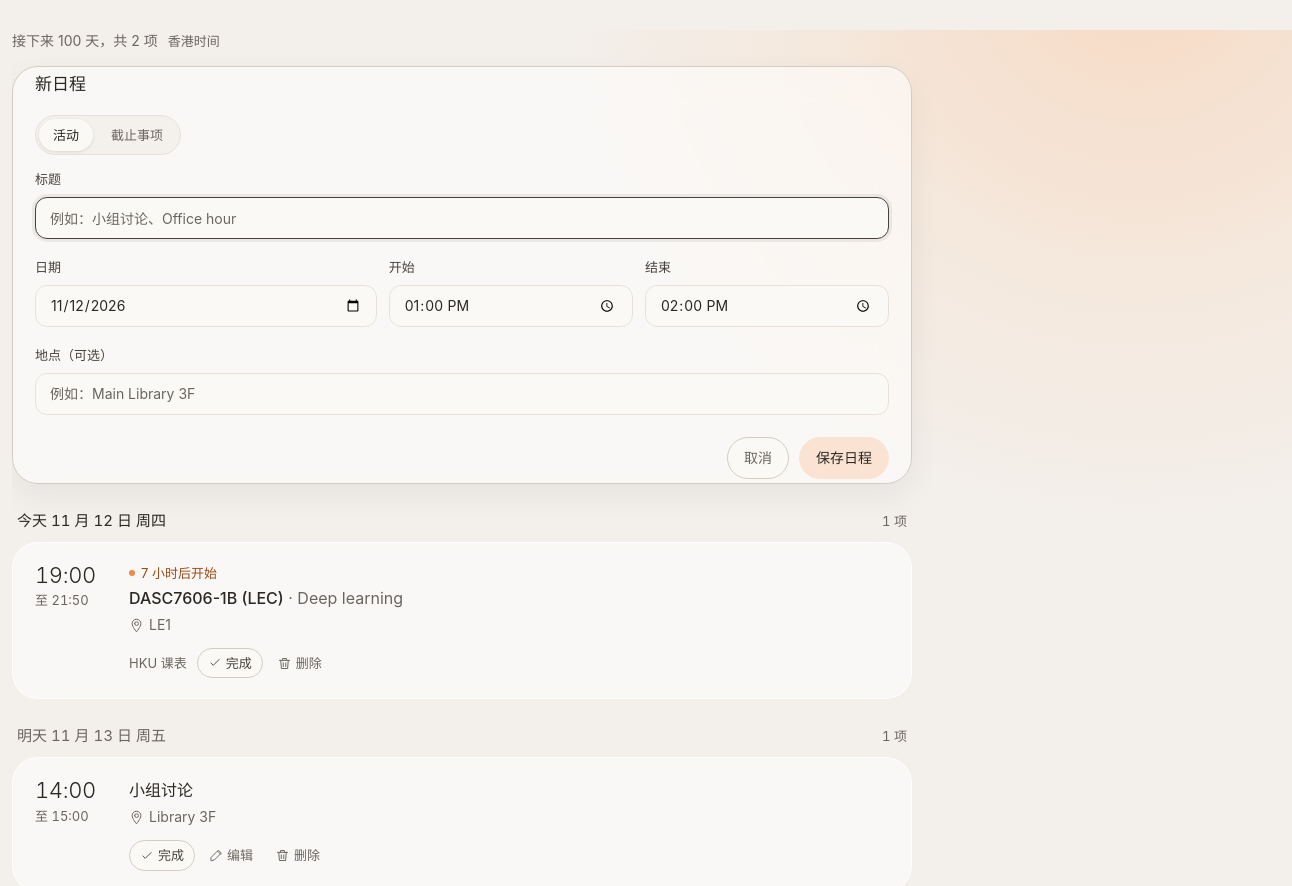
Scenario: adds a schedule in Hong Kong time and refreshes the list
Expected: the date field labelled "日期" holds "2026-11-12", [35,285,377,327]
Expected: the time field labelled "开始" holds "13:00", [389,285,633,327]
Click the button "保存日程" at (844, 458), box [799,437,889,479]
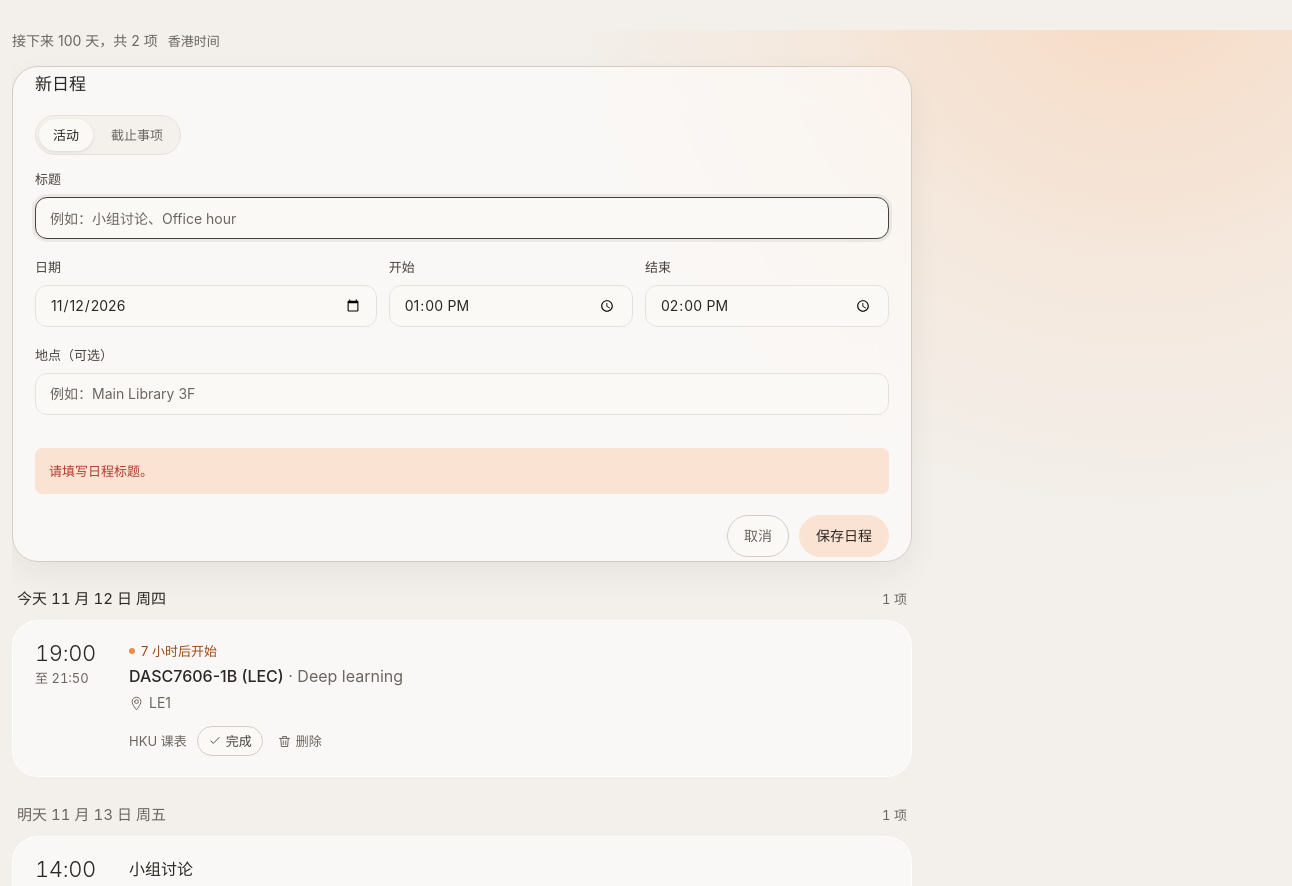
Expected: the message reads "请填写日程标题。", [49,463,153,479]
Type "  Office hour " into the field labelled "标题" at (462, 218), box [35,197,889,239]
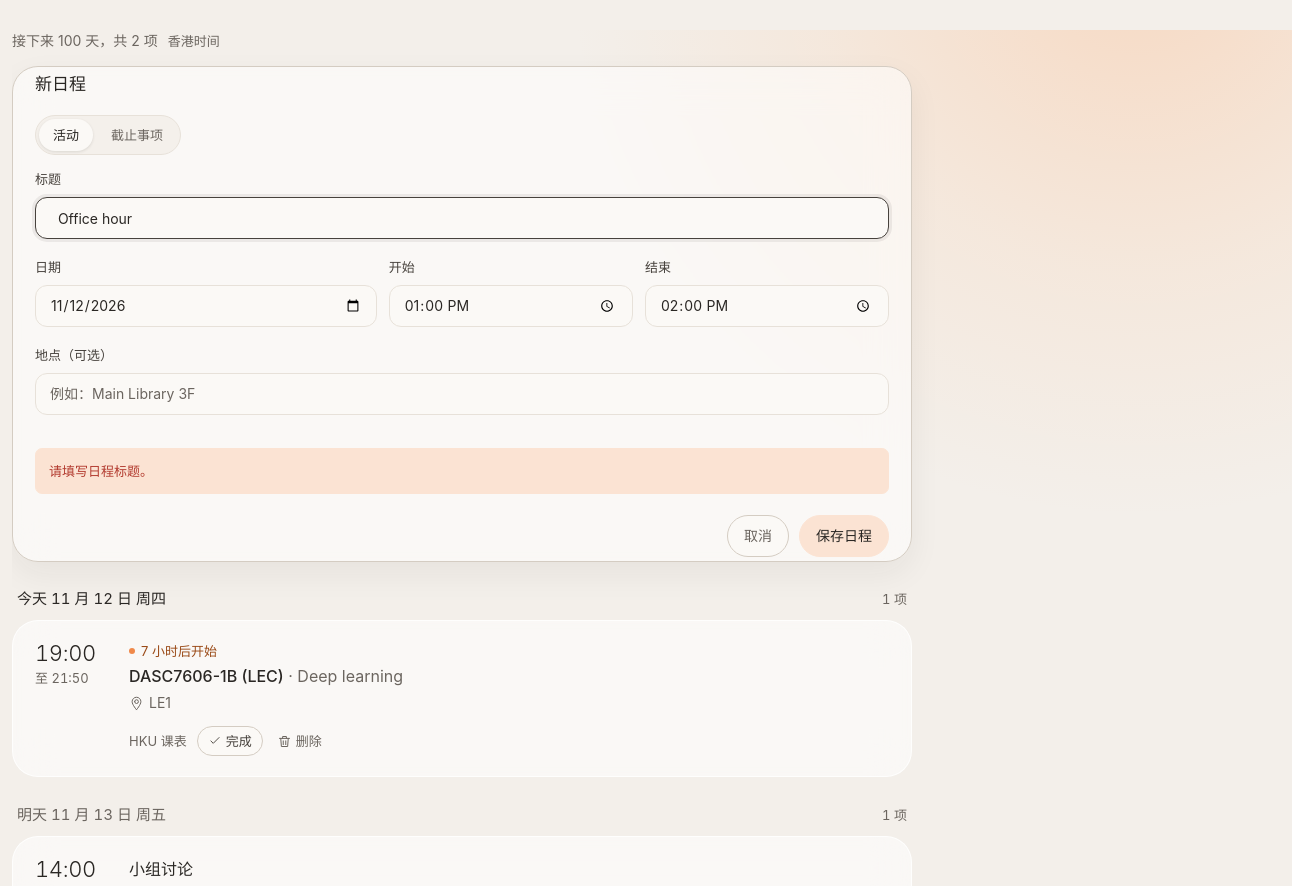
Replace the text in the time field labelled "开始" with "14:30" at (511, 306), box [389,285,633,327]
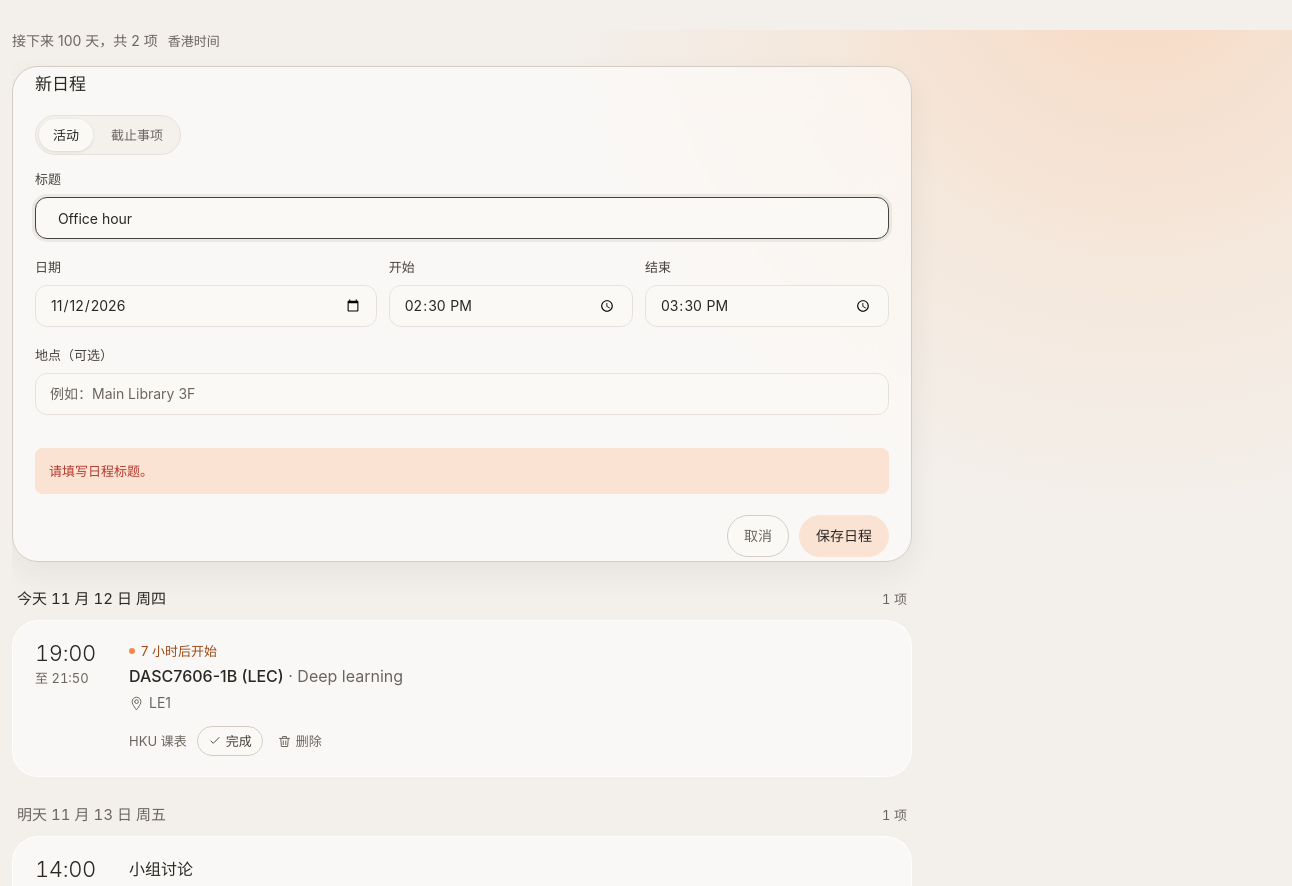
Expected: the time field labelled "结束" holds "15:30", [645,285,889,327]
Type "HW-512" into the field labelled "地点（可选）" at (462, 394), box [35,373,889,415]
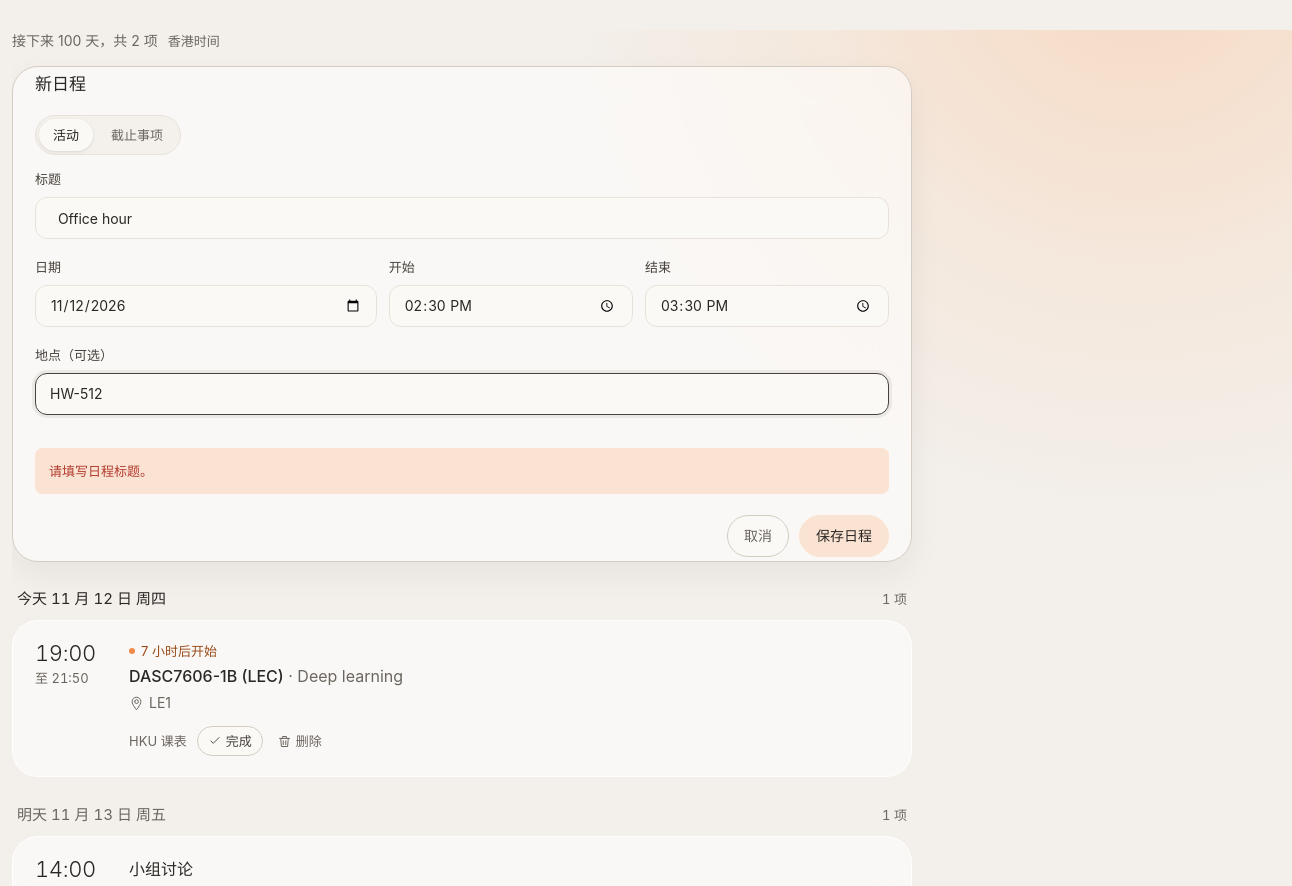
Click the button "保存日程" at (844, 536), box [799,515,889,557]
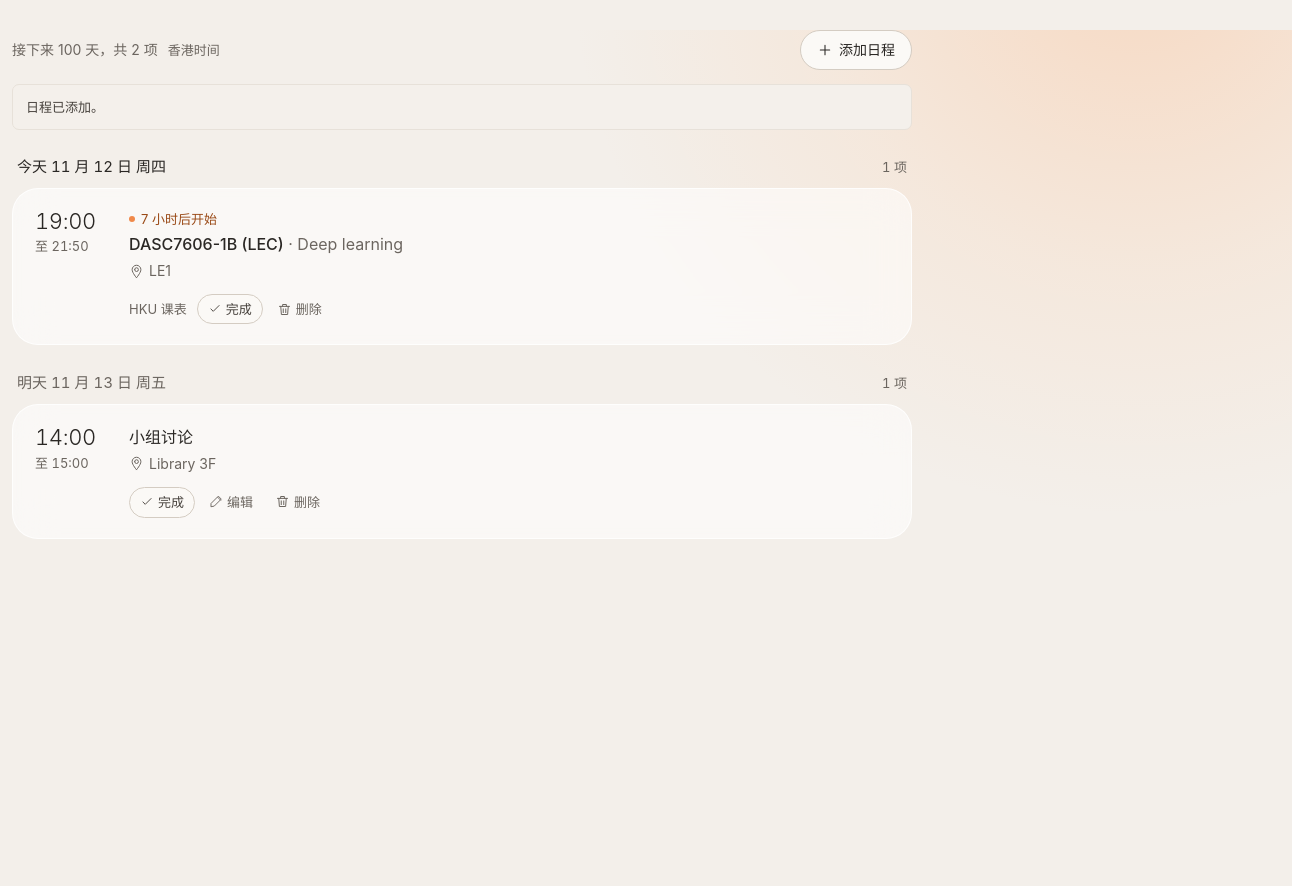
Expected: the text "日程已添加。" is shown, [12,84,912,130]
